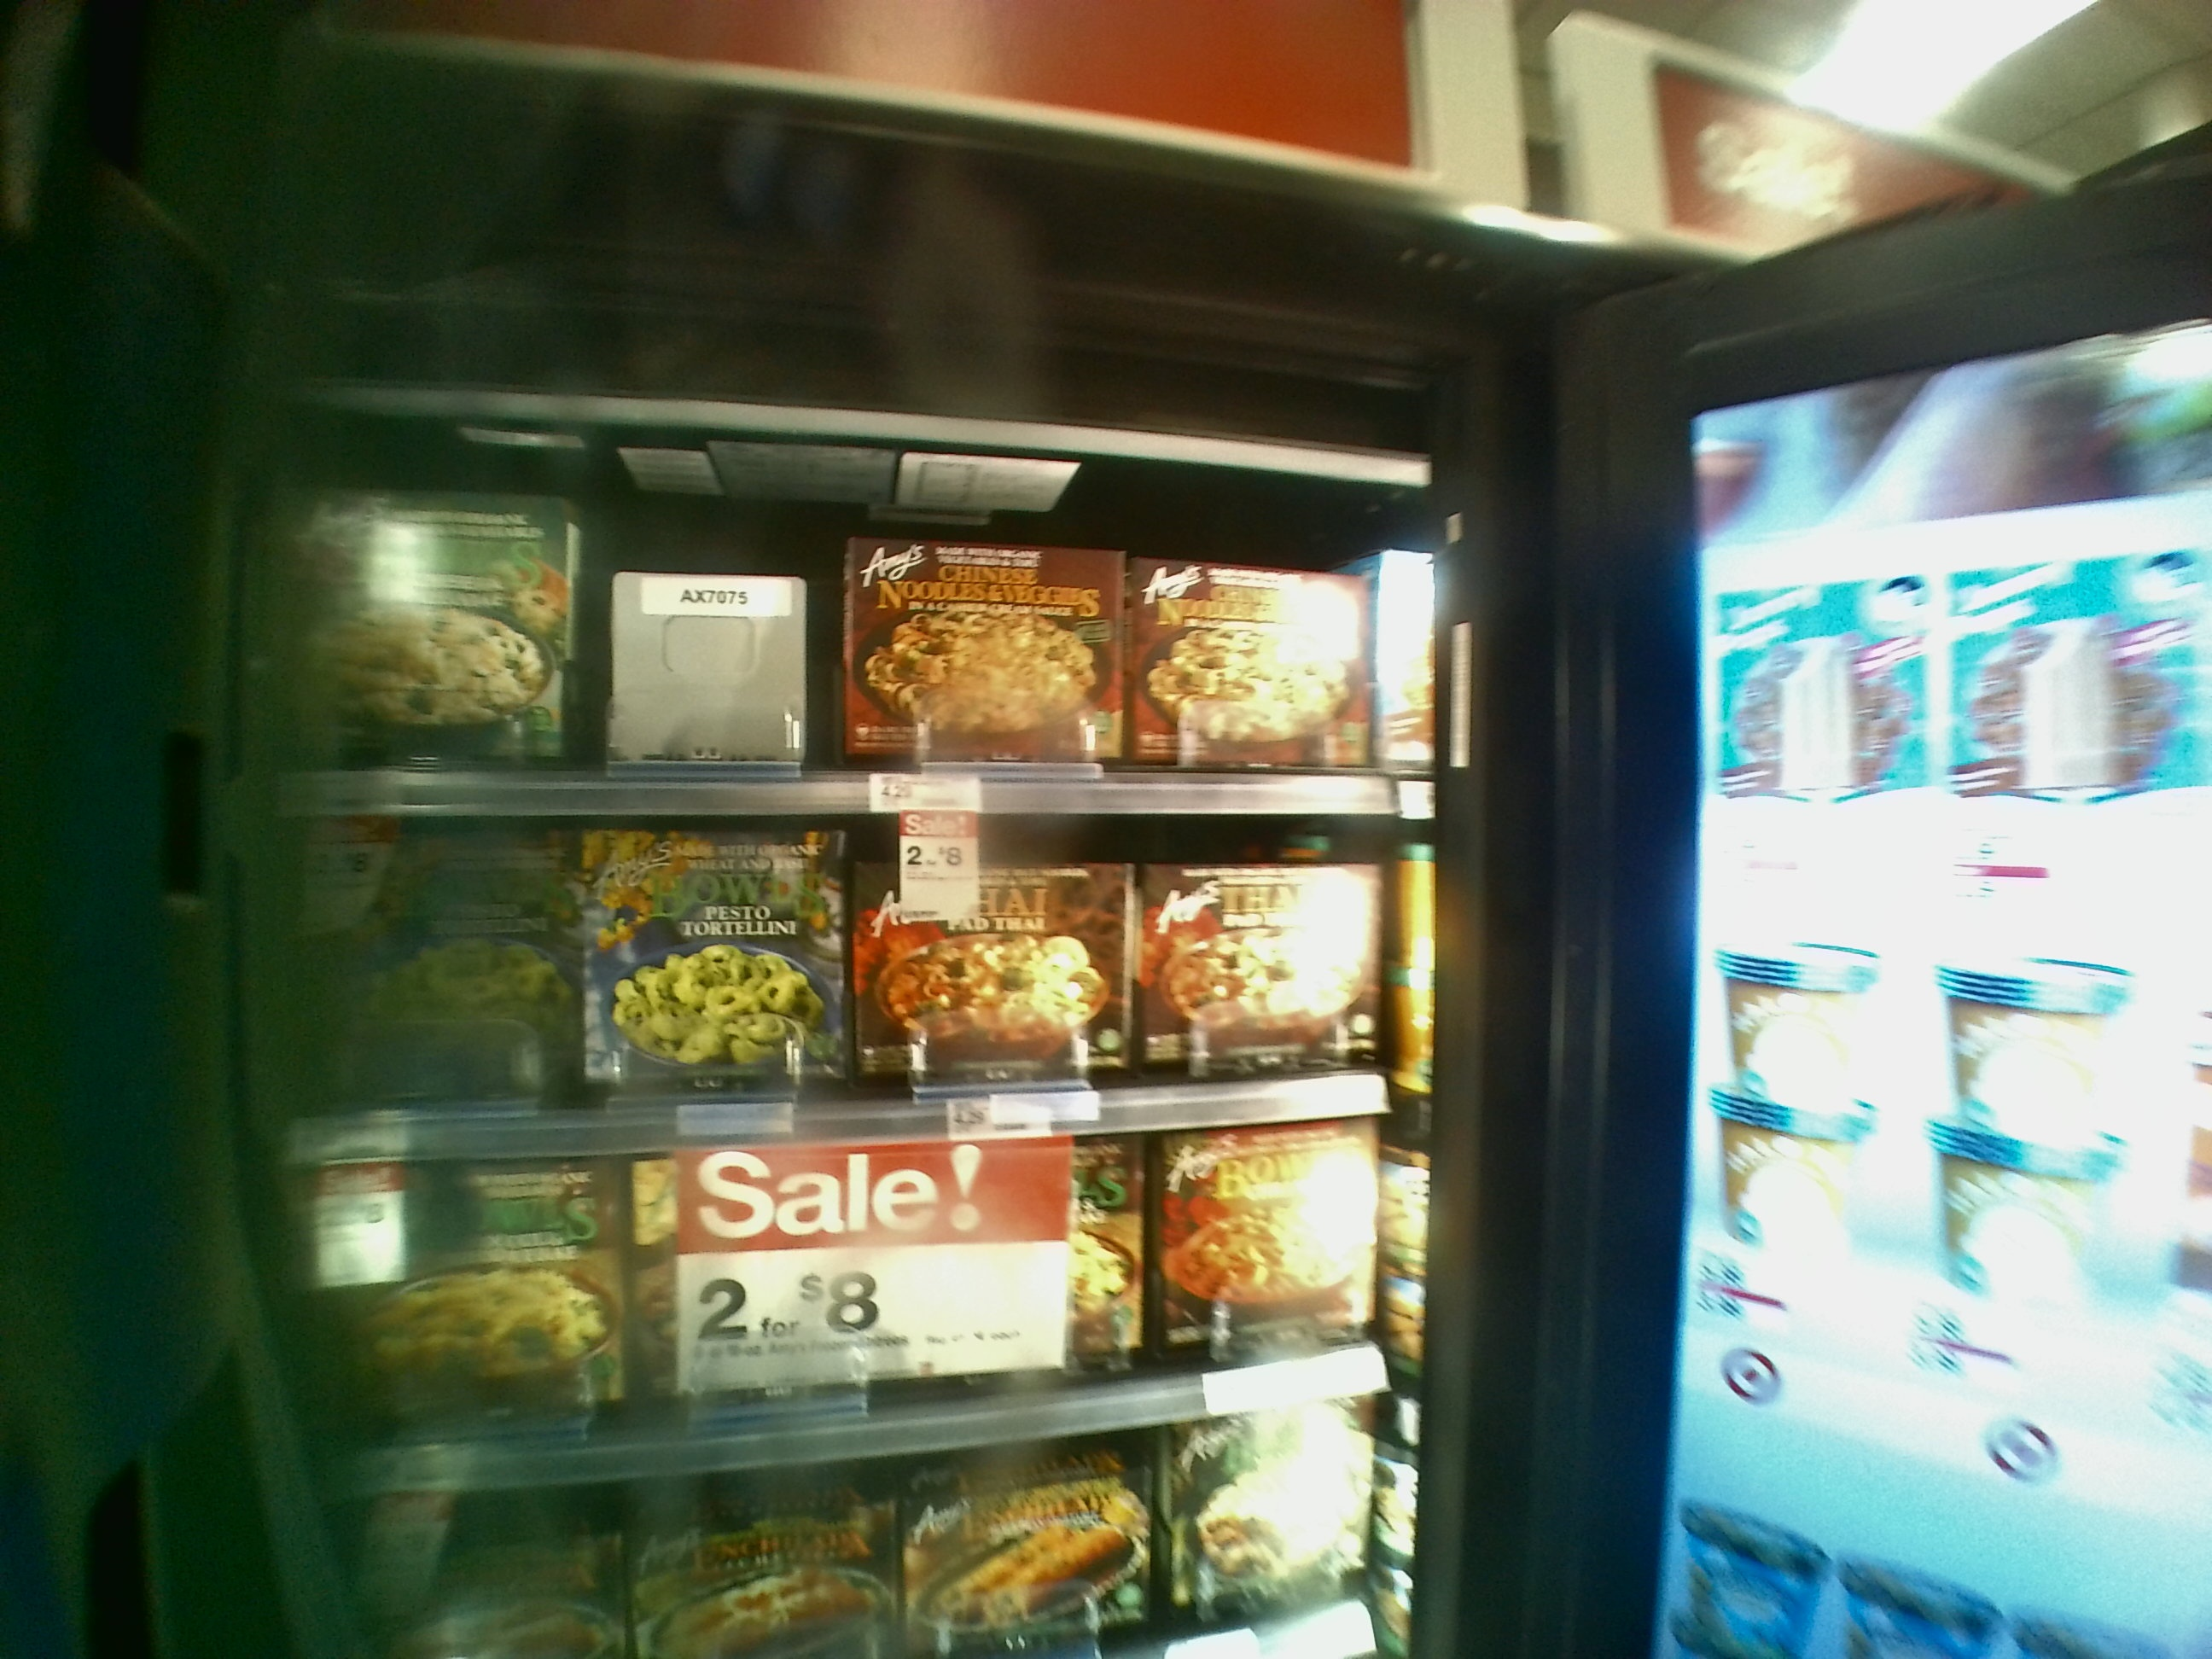shelf: (239, 397, 1430, 829), (263, 826, 1440, 1148), (314, 1157, 1447, 1455)
